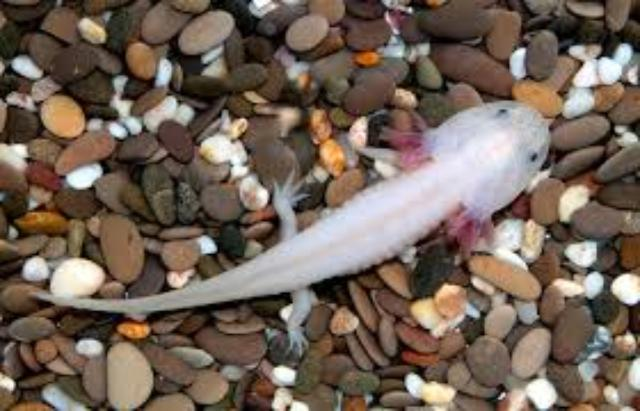Sirip Ekor: (14, 260, 210, 344)
